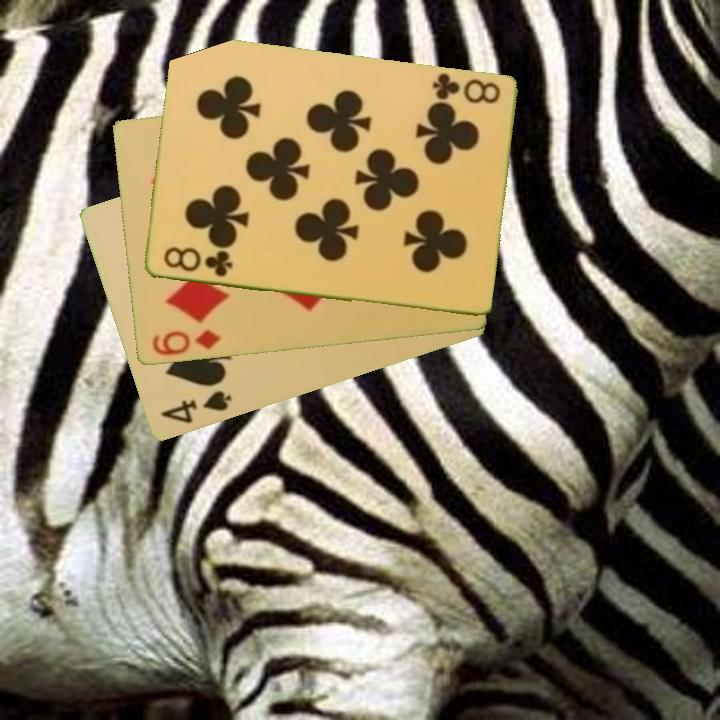4s: (156, 387, 235, 427)
6d: (148, 326, 223, 359)
8c: (159, 243, 236, 280), (428, 70, 503, 107)
